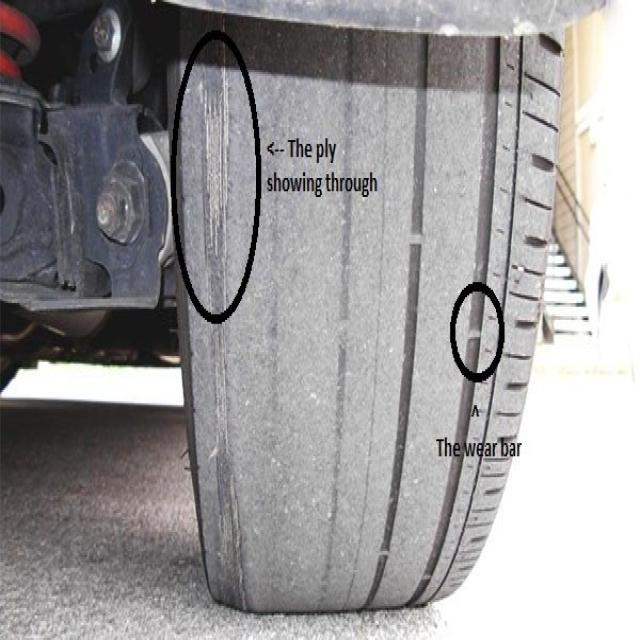Flat spots: (192, 39, 470, 590)
